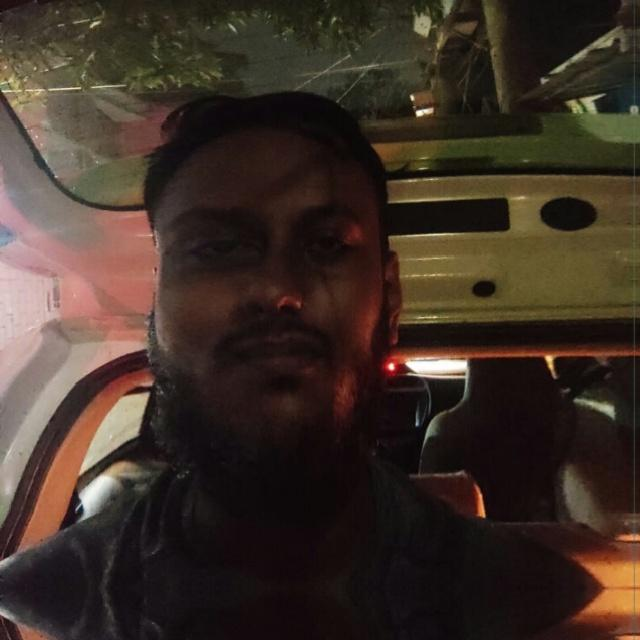Natural: (139, 99, 411, 488)
